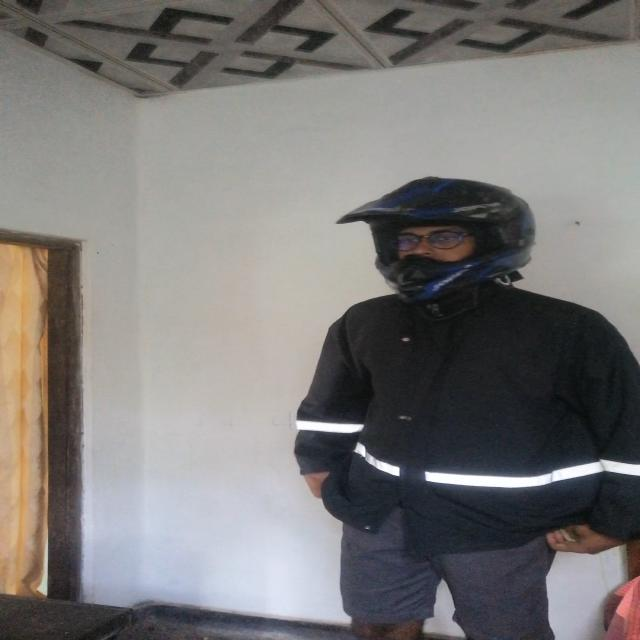Helmet_Wearer: (312, 168, 565, 294)
Jacket_Wearer: (260, 285, 640, 552)
